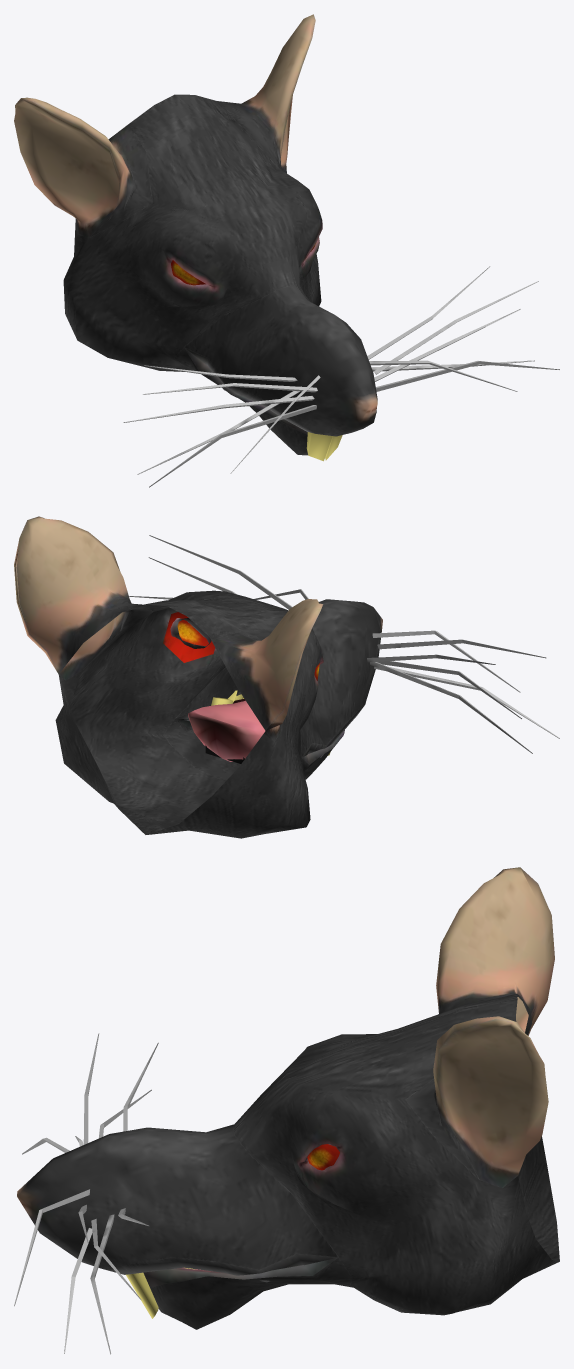
Rendered from rat_head.glb.
3 renders of one model, top to bottom at view 1: azimuth 30°, elevation 25°; view 2: azimuth 150°, elevation 25°; view 3: azimuth 270°, elevation 25°, orthographic. The views are drawn at different scales.
Visible parts, largest first — view 1: Head, Teeth; view 2: Head, Eyes; view 3: Head, Teeth, Eyes.
Boxes of the visible parts, x1,y1,x2,y2 form: Head: (14, 14, 559, 487); Teeth: (306, 432, 342, 461); Head: (14, 516, 559, 838); Eyes: (163, 612, 319, 680); Head: (14, 867, 559, 1354); Teeth: (126, 1267, 194, 1318); Eyes: (307, 1144, 339, 1170).
Size of the model in its own units: 0.1943 by 0.1431 by 0.1836.
3 materials, 2 textured.
